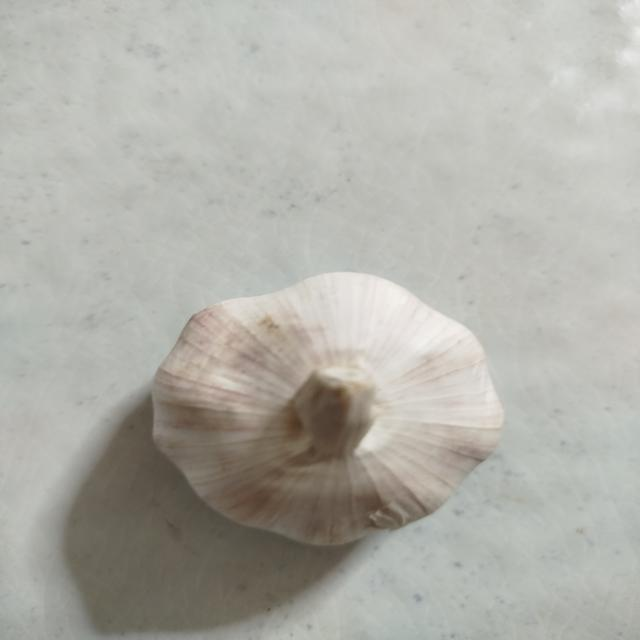garlic: (150, 270, 504, 548)
